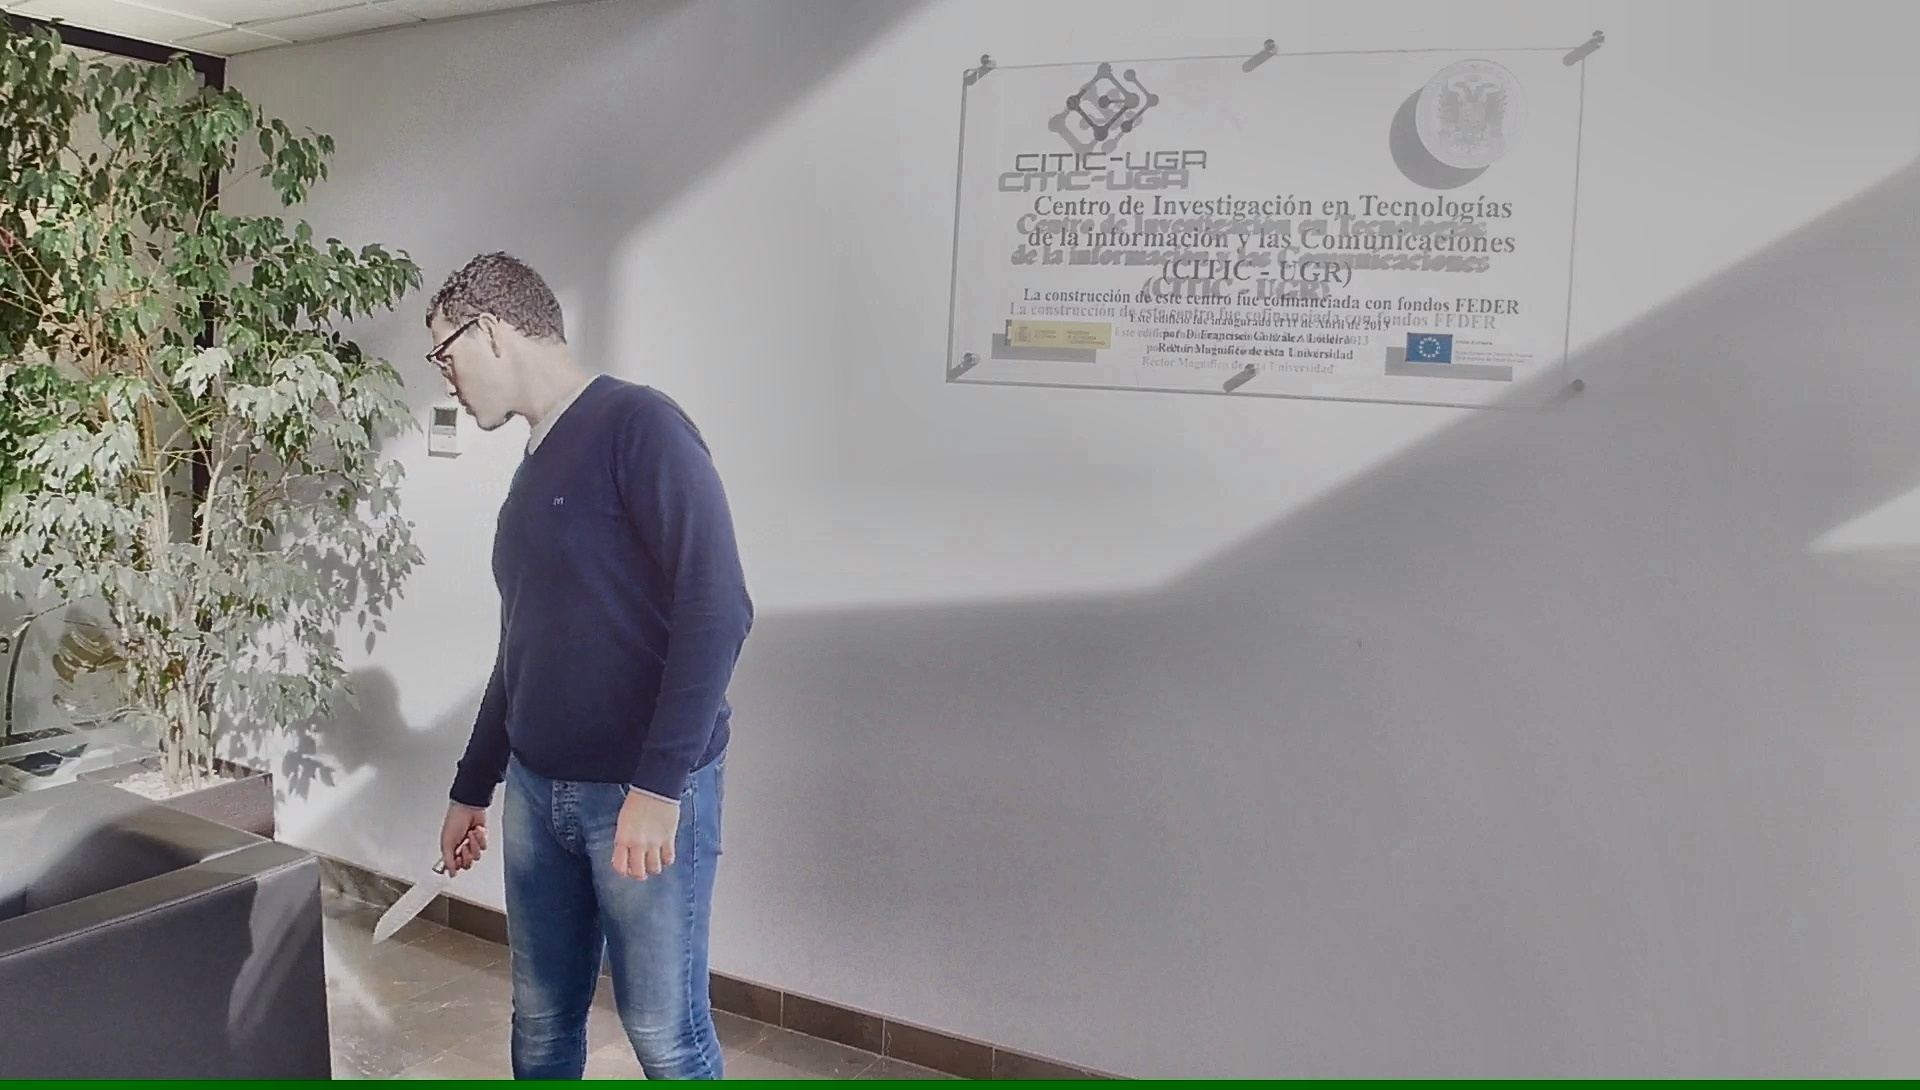knife: (361, 820, 489, 956)
